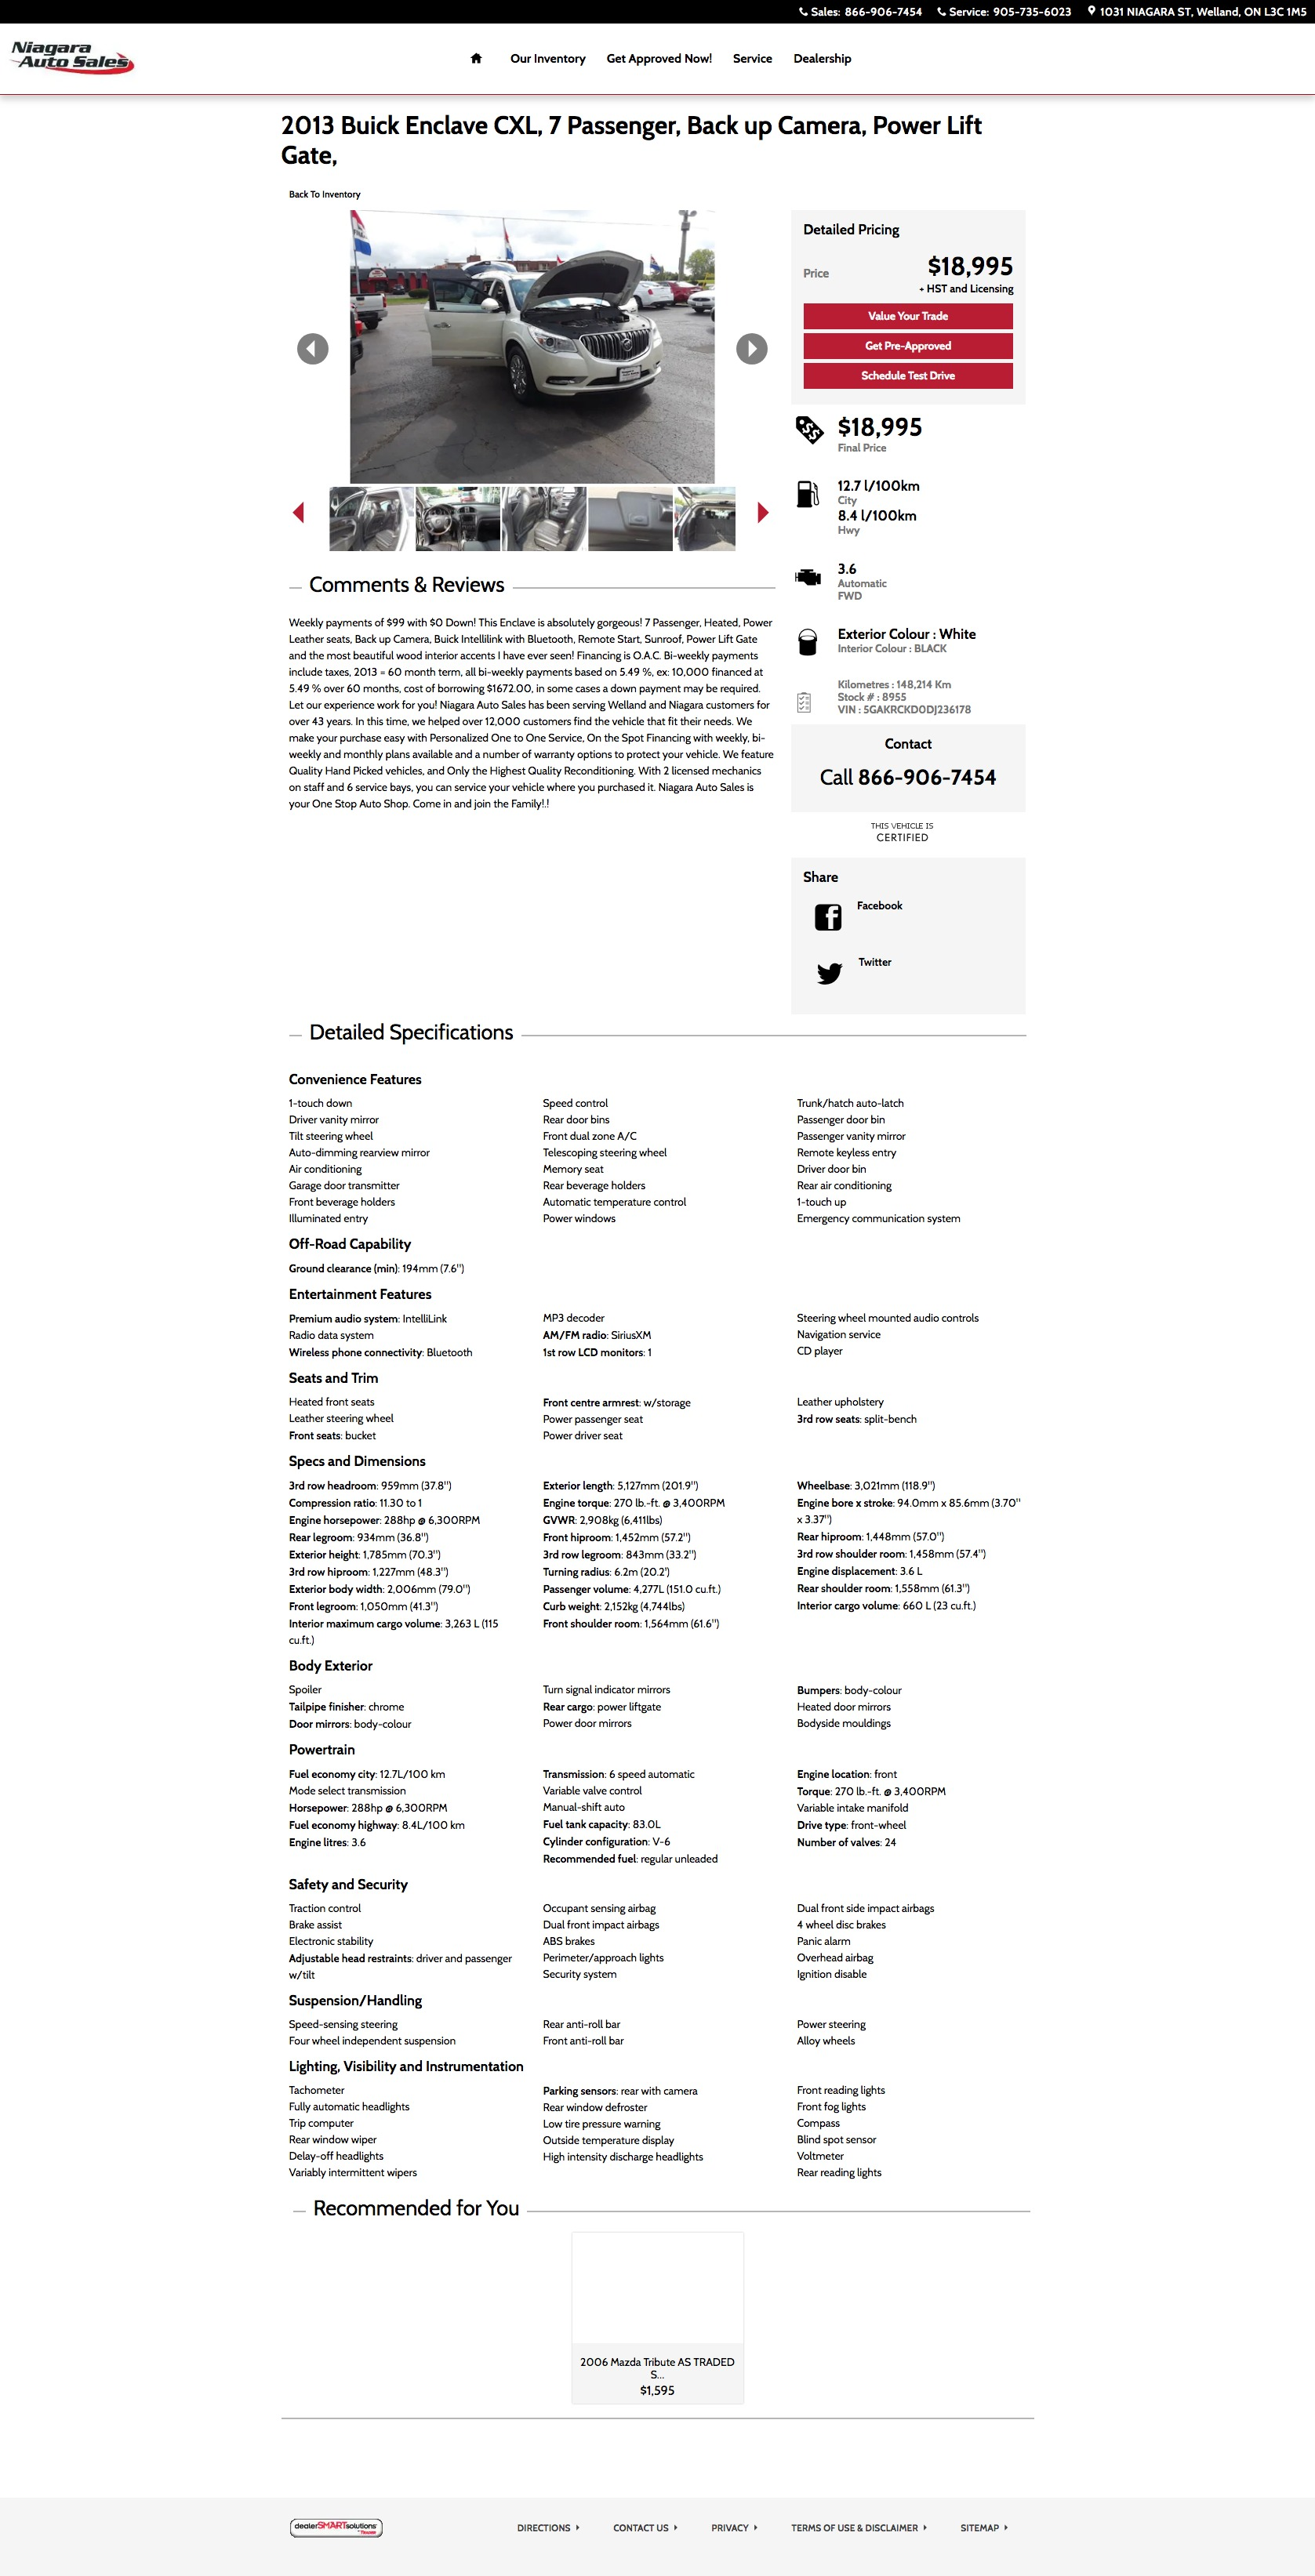car: (756, 501, 770, 525)
